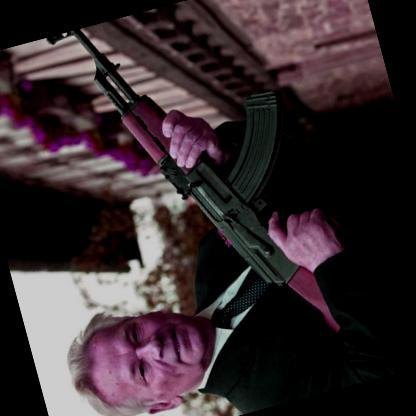rifle: (39, 0, 371, 388)
